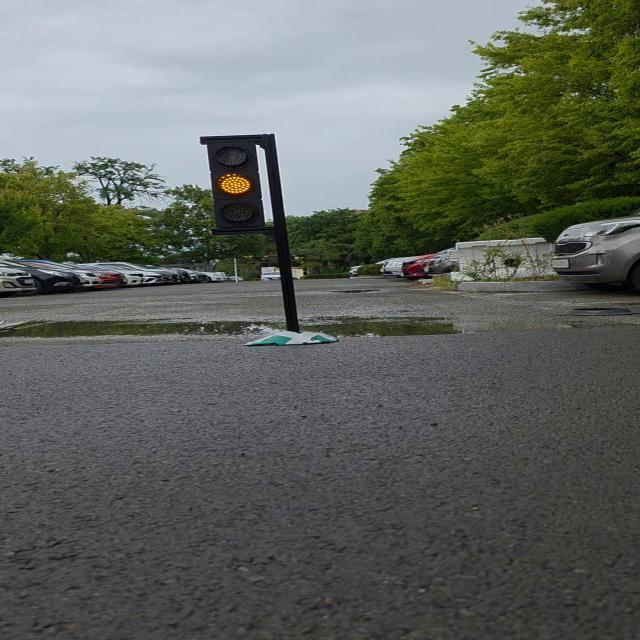yellow: (196, 138, 280, 232)
